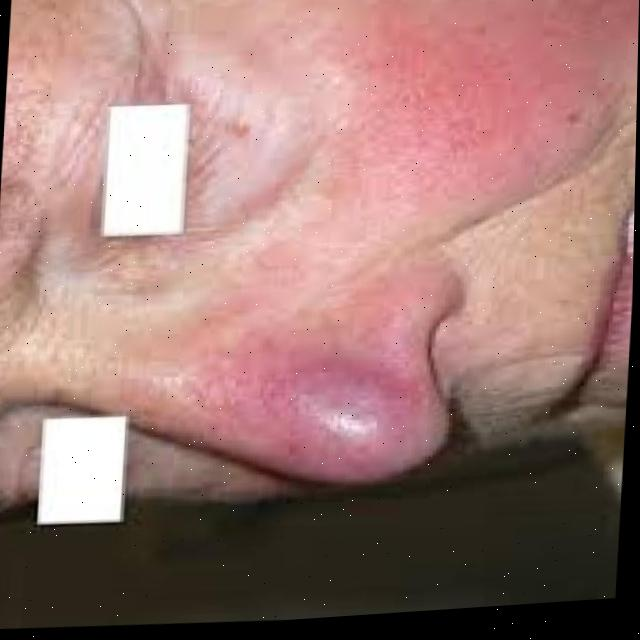Rosacea: (169, 258, 451, 499), (338, 0, 640, 206)
